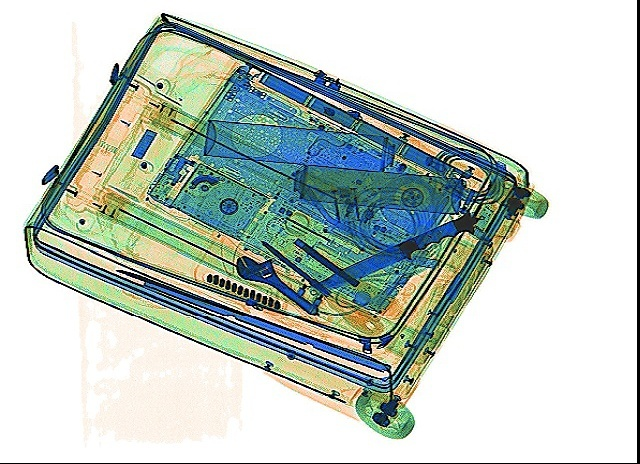knife: (309, 207, 484, 289)
pressure: (199, 117, 420, 171), (291, 162, 463, 214)
